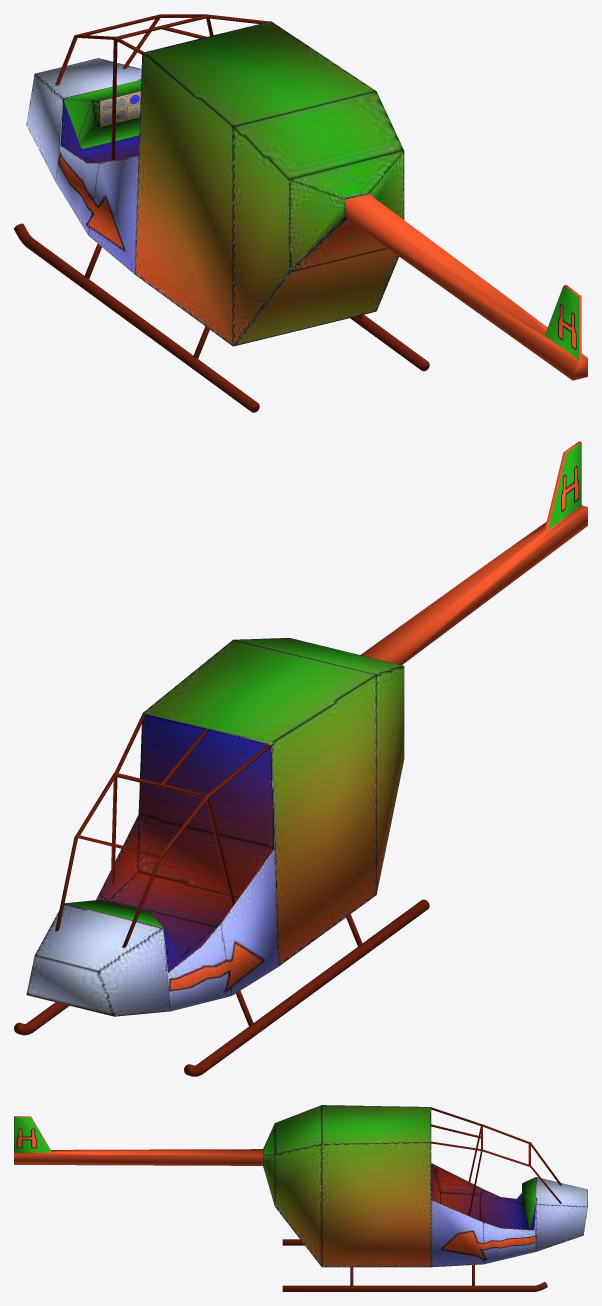
The model's file is heli_hi.obj.
3 views of the same model, one above another, from view 1: azimuth 30°, elevation 25°; view 2: azimuth 150°, elevation 25°; view 3: azimuth 270°, elevation 25° (orthographic). The views are drawn at different scales.
Parts seen in each view (by area): view 1: cube1, cylinder4, cube3; view 2: cube1, cylinder4, cube3; view 3: cube1, cylinder4, cube3.
Boxes of the visible parts, x1=… form: cube1: x1=26, y1=21, x2=587, y2=380; cylinder4: x1=14, y1=223, x2=429, y2=412; cube3: x1=55, y1=14, x2=269, y2=160; cube1: x1=26, y1=441, x2=587, y2=1016; cylinder4: x1=14, y1=899, x2=429, y2=1076; cube3: x1=55, y1=714, x2=270, y2=947; cube1: x1=14, y1=1105, x2=587, y2=1267; cylinder4: x1=282, y1=1239, x2=547, y2=1291; cube3: x1=431, y1=1107, x2=561, y2=1216.
Bounding box in the file's own units: 0.74 × 1.07 × 3.67.
